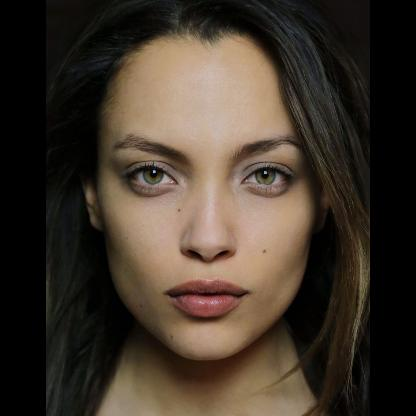Female: (81, 32, 315, 360)
